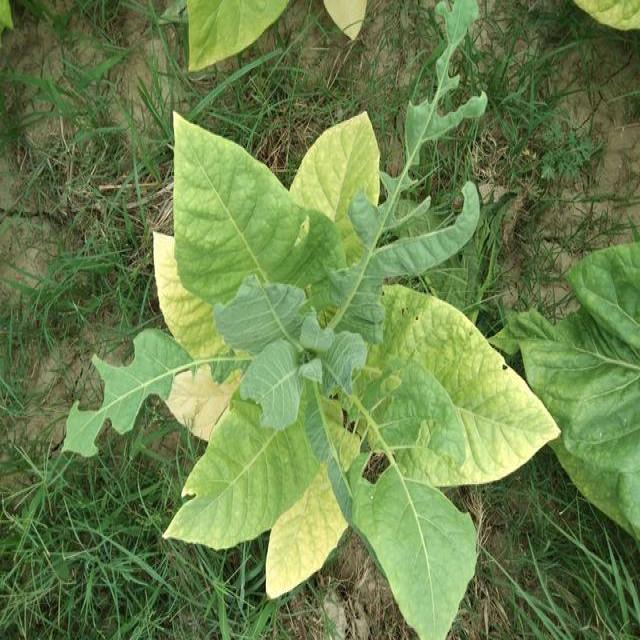crop: (132, 102, 565, 640)
